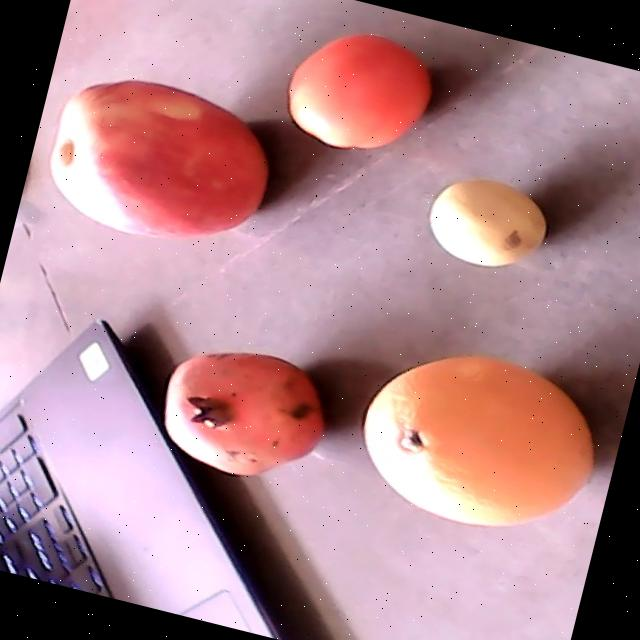apple: (48, 80, 266, 241)
lemon: (429, 178, 544, 268)
orange: (363, 355, 594, 524)
pomegranate: (162, 353, 324, 473)
tomato: (287, 32, 433, 148)
